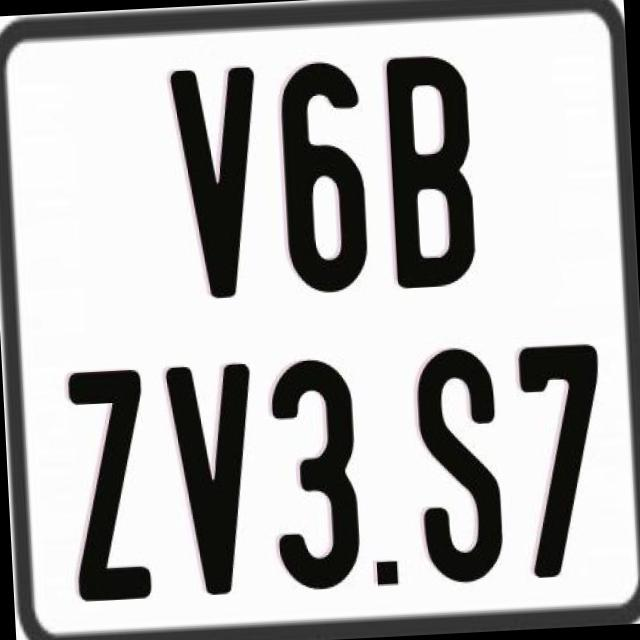3: (267, 355, 362, 596)
6: (277, 56, 376, 298)
7: (518, 341, 610, 578)
B: (386, 51, 486, 294)
S: (411, 344, 504, 592)
V: (167, 62, 270, 300), (165, 361, 263, 600)
Z: (66, 366, 154, 605)
